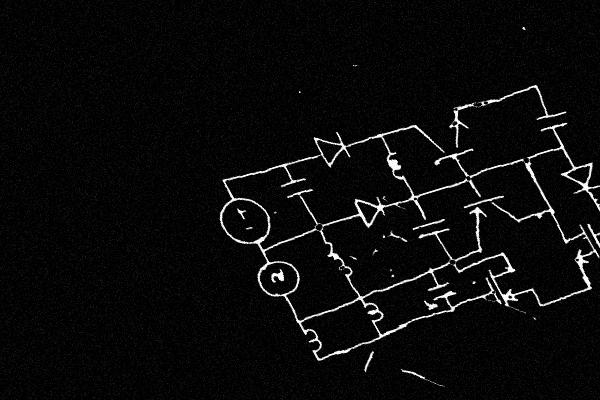capacitor: (406, 211, 455, 246), (274, 169, 319, 206), (530, 105, 577, 138), (423, 276, 460, 306)
diode: (305, 127, 358, 171), (344, 190, 395, 232), (554, 156, 600, 198)
inductor: (314, 231, 361, 287), (379, 146, 414, 185), (297, 322, 329, 357), (357, 296, 390, 329)
signal: (247, 253, 311, 305)
voltage: (207, 187, 284, 254)
